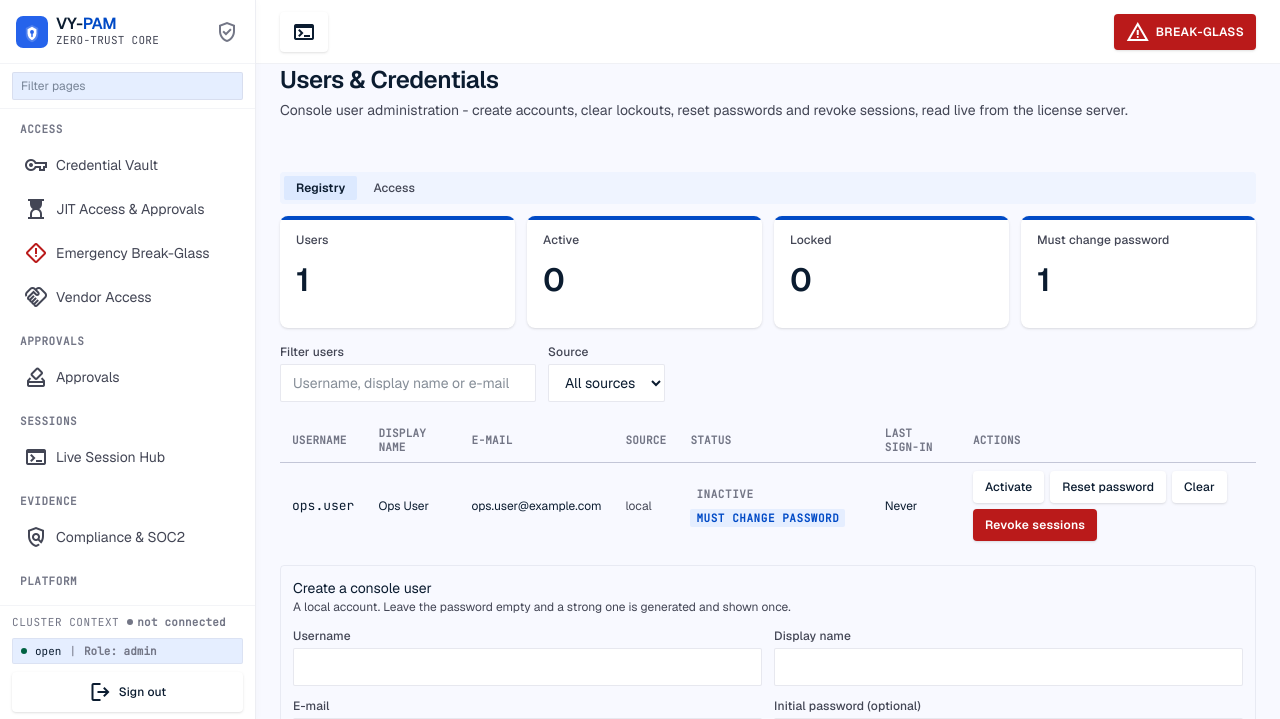
Test: UsersPage (ADR-0016 batch 11.7, contract-shaped) › activate on an inactive row PATCHes {active:true} and answers verbatim
Click the button "Activate" at (1009, 487), box x1=973 y1=471 x2=1044 y2=503
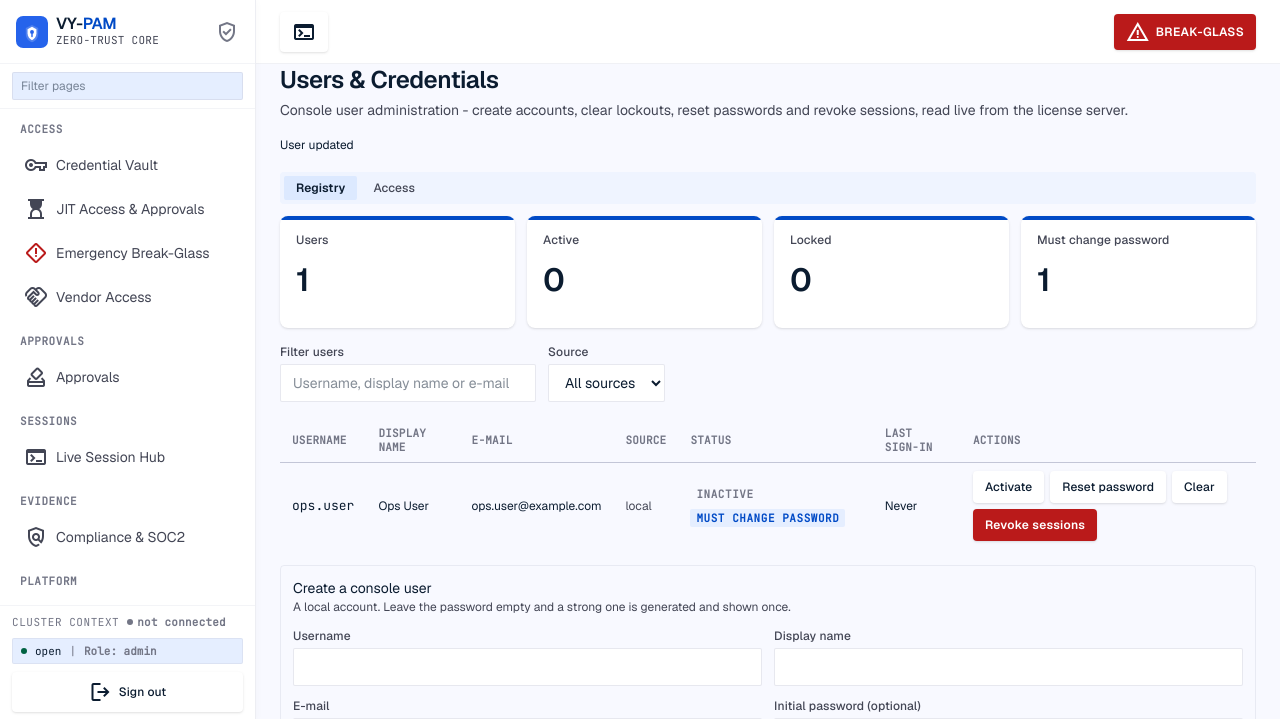
Expected: the text "User updated" is shown, x1=280 y1=137 x2=354 y2=153
